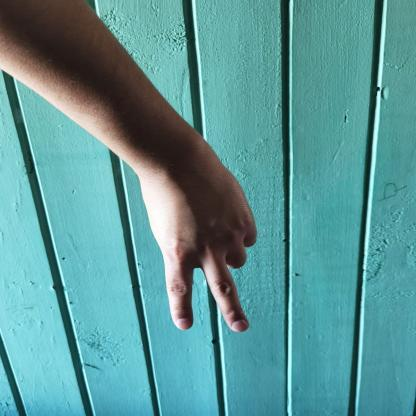N: (109, 147, 287, 349)
